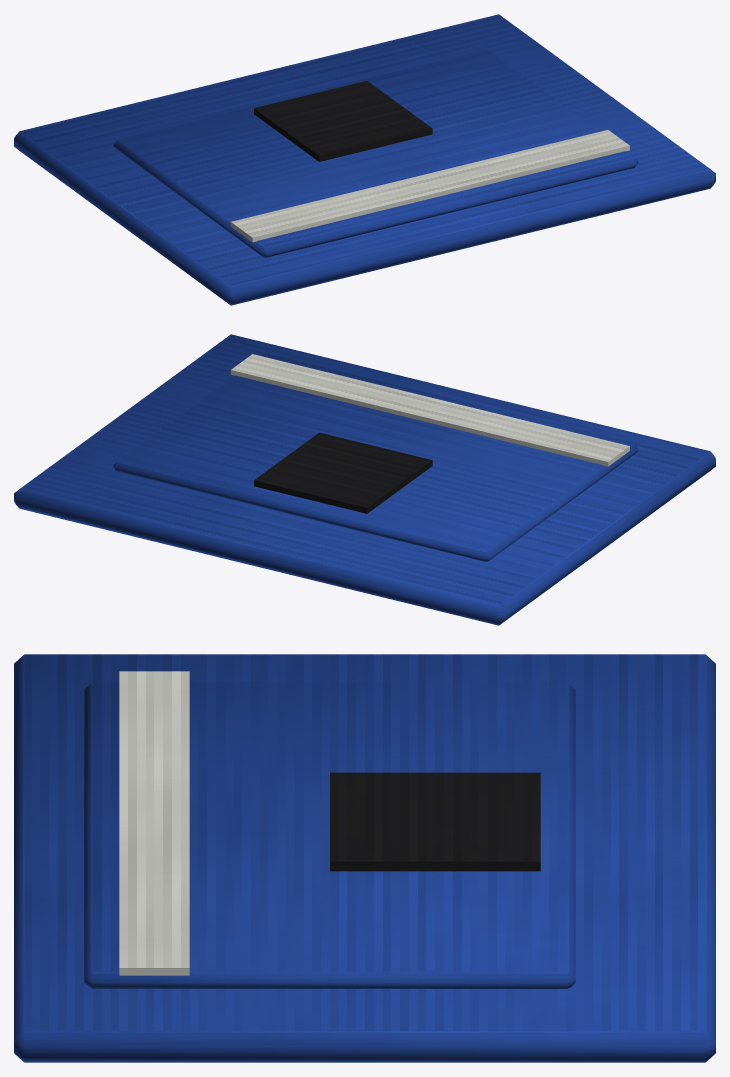
File: capo_reserva.glb
3 renders of one model, top to bottom at view 1: azimuth 30°, elevation 25°; view 2: azimuth 150°, elevation 25°; view 3: azimuth 270°, elevation 25°, orthographic. The views are drawn at different scales.
Parts seen in each view (by area): view 1: Inteiro; view 2: Inteiro; view 3: Inteiro.
Part boxes in pixels (<box>): Inteiro: <box>14,14,715,305</box>; Inteiro: <box>14,334,715,625</box>; Inteiro: <box>14,654,715,1062</box>.
Bounding box in the file's own units: 1.3 × 0.09 × 1.
1 material, 1 textured.
